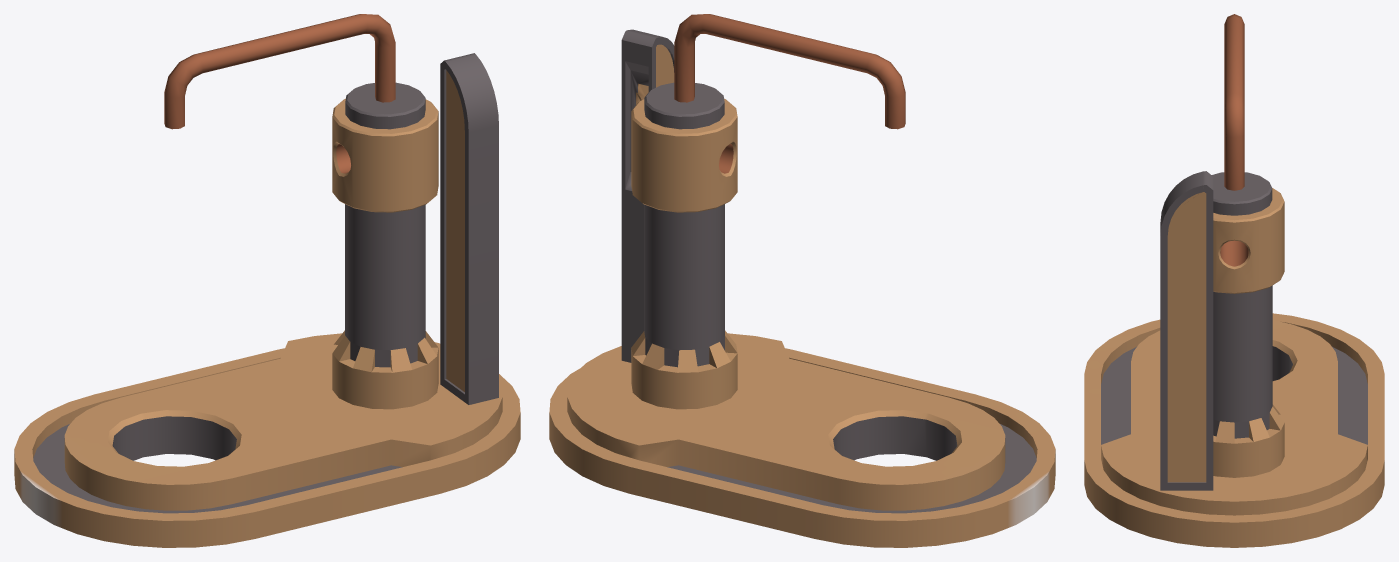
Rendered from Drill_base.fbx.
3 views of the same model, side by side, from view 1: azimuth 30°, elevation 25°; view 2: azimuth 150°, elevation 25°; view 3: azimuth 270°, elevation 25° (orthographic). The views are drawn at different scales.
Visible parts, largest first — view 1: Drill_base; view 2: Drill_base; view 3: Drill_base.
Part boxes in pixels (x1,y1,x2,y2): Drill_base: (14, 14, 520, 547); Drill_base: (549, 14, 1055, 547); Drill_base: (1084, 14, 1384, 547).
Bounding box in the file's own units: 500 × 433 × 300.
